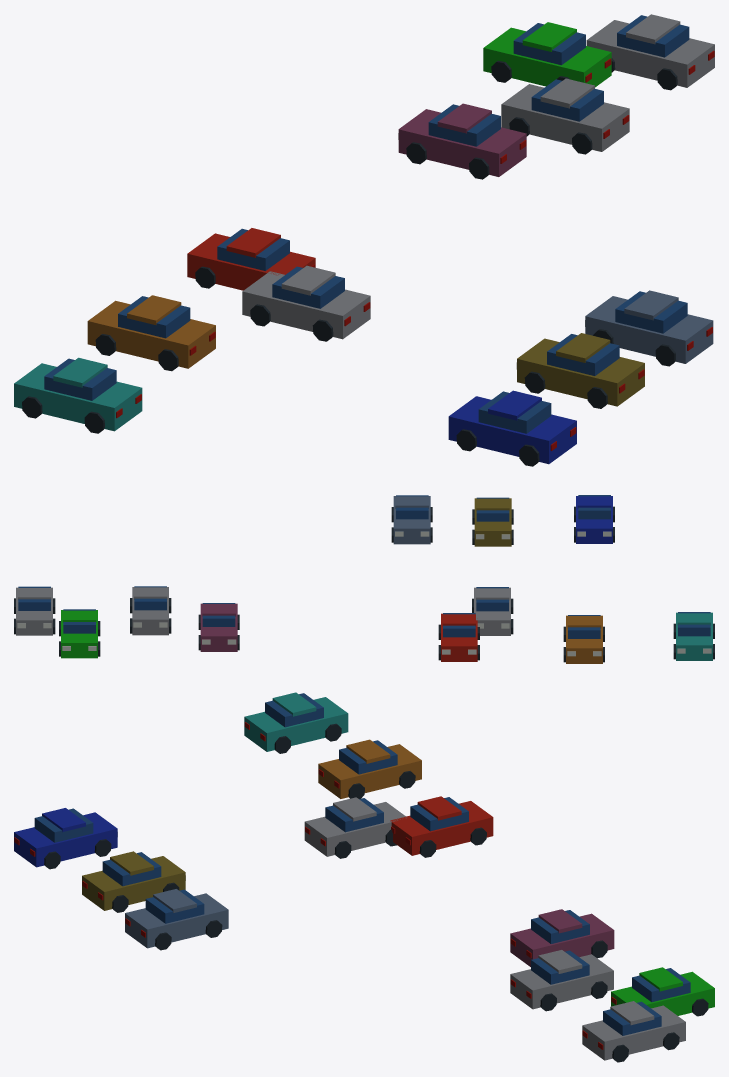
File: cars_4.glb
The picture shows the model from 3 angles, top to bottom: view 1: azimuth 30°, elevation 25°; view 2: azimuth 150°, elevation 25°; view 3: azimuth 270°, elevation 25°; orthographic projection. The views are drawn at different scales.
Visible parts, largest first — view 1: cars_4; view 2: cars_4; view 3: cars_4.
Boxes of the visible parts, x1,y1,x2,y2 form: cars_4: [14, 14, 714, 466]; cars_4: [14, 495, 714, 663]; cars_4: [14, 692, 714, 1062].
Size of the model in its own units: 62.55 by 3.04 by 53.73.
